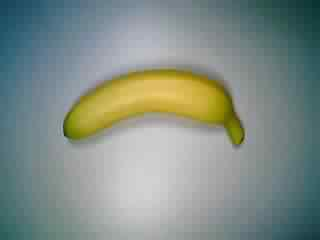banana: (60, 63, 253, 160)
